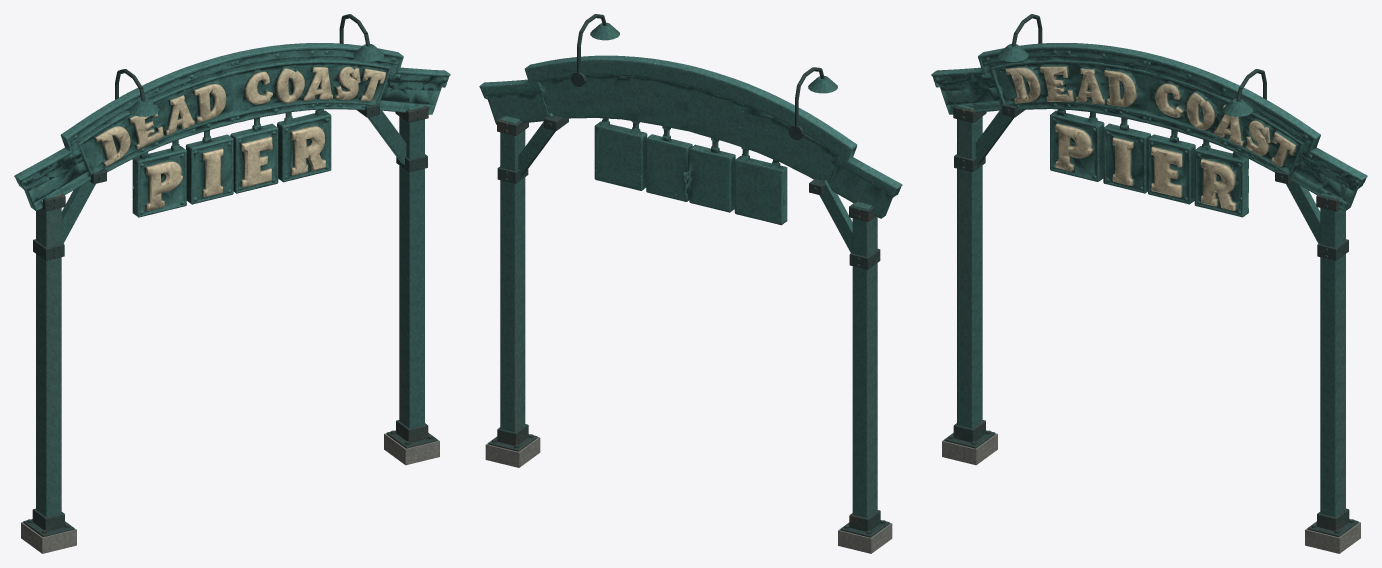
The model's file is pier-sign.glb.
3 renders of one model, left to right at view 1: azimuth 30°, elevation 25°; view 2: azimuth 150°, elevation 25°; view 3: azimuth 330°, elevation 25°, orthographic. The views are drawn at different scales.
Visible parts, largest first — view 1: pier-sign-painted; view 2: pier-sign-painted; view 3: pier-sign-painted.
Boxes of the visible parts, left/top/right/bottom form: pier-sign-painted: left=14, top=14, right=450, bottom=553; pier-sign-painted: left=479, top=14, right=902, bottom=553; pier-sign-painted: left=931, top=14, right=1367, bottom=553.
Size of the model in its own units: 5.76 by 5.88 by 1.03.
2 materials, 1 textured.
